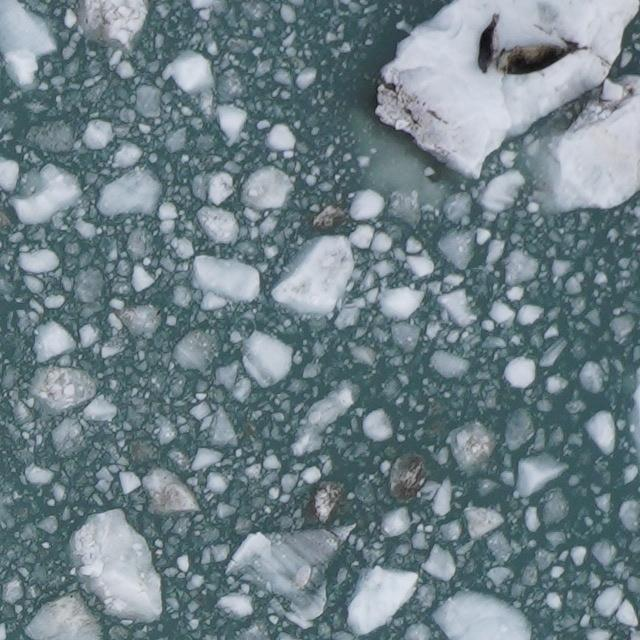seal: (490, 36, 592, 76), (474, 11, 503, 78)
